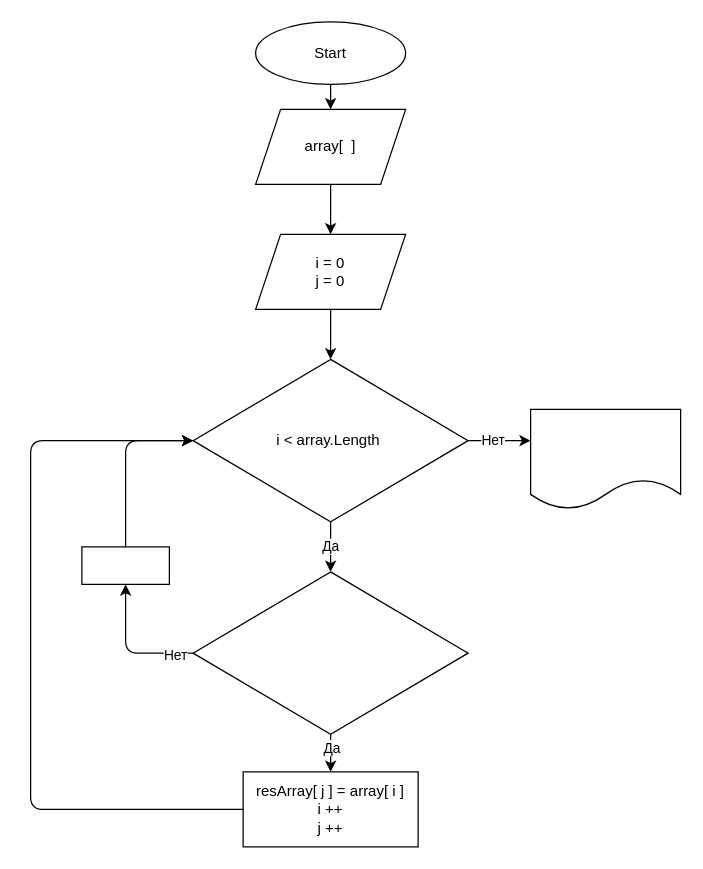
Image size: 703x869. Some labels were removed from this diagram. The shapes that lost their labels are listed below. From the top down, each one's centre as x and y in pixels, then its label:
the point at 605,458: resArray[ j ]
the point at 125,565: i ++
the point at 330,652: array[ i ].Length <= 3
